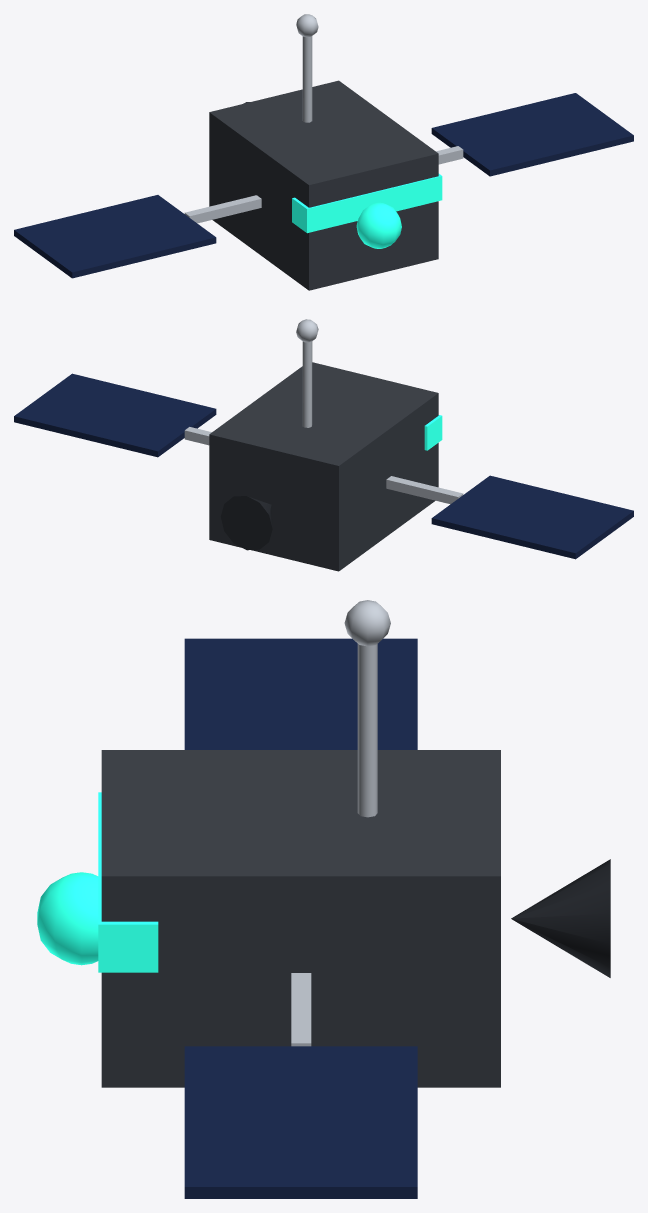
Rendered from copernix-probe-v001.glb.
The picture shows the model from 3 angles, top to bottom: view 1: azimuth 30°, elevation 25°; view 2: azimuth 150°, elevation 25°; view 3: azimuth 270°, elevation 25°; orthographic projection. The views are drawn at different scales.
Parts seen in each view (by area): view 1: body, panel-left, panel-right, accent, sensor, arm-left, antenna-mast, antenna-tip; view 2: body, panel-left, panel-right, thruster, arm-left, antenna-mast, accent, antenna-tip; view 3: body, panel-right, panel-left, thruster, sensor, accent, antenna-mast, antenna-tip, arm-right.
Boxes of the visible parts, bbox=[...] form: body: bbox=[209, 80, 438, 290]; panel-left: bbox=[14, 195, 216, 278]; panel-right: bbox=[431, 93, 633, 176]; accent: bbox=[292, 173, 442, 233]; sensor: bbox=[356, 202, 401, 248]; arm-left: bbox=[184, 195, 261, 223]; antenna-mast: bbox=[302, 36, 312, 122]; antenna-tip: bbox=[296, 14, 318, 37]; body: bbox=[209, 362, 438, 571]; panel-left: bbox=[431, 475, 633, 559]; panel-right: bbox=[14, 373, 216, 457]; thruster: bbox=[220, 496, 272, 550]; arm-left: bbox=[386, 476, 463, 504]; antenna-mast: bbox=[302, 341, 312, 427]; accent: bbox=[424, 415, 442, 450]; antenna-tip: bbox=[296, 319, 318, 342]; body: bbox=[101, 750, 500, 1087]; panel-right: bbox=[184, 1046, 417, 1198]; panel-left: bbox=[184, 638, 417, 749]; thruster: bbox=[511, 859, 610, 977]; sensor: bbox=[37, 872, 98, 965]; accent: bbox=[98, 792, 158, 972]; antenna-mast: bbox=[357, 644, 377, 817]; antenna-tip: bbox=[344, 600, 390, 646]; arm-right: bbox=[291, 973, 311, 1046].
Bounding box in the file's own units: 3.9 × 1.4 × 1.72.
